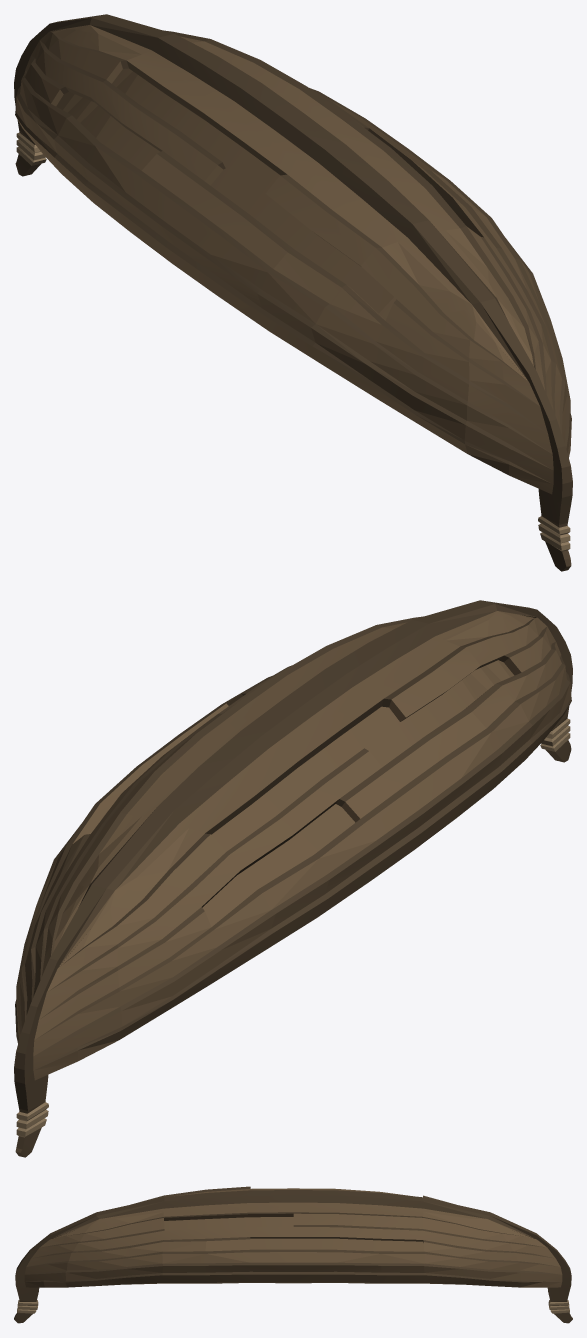
Rendered from Balsa_Volteada.glb.
The picture shows the model from 3 angles, top to bottom: view 1: azimuth 30°, elevation 25°; view 2: azimuth 150°, elevation 25°; view 3: azimuth 270°, elevation 25°; orthographic projection. The views are drawn at different scales.
Visible parts, largest first — view 1: SM_Prop_Boat_Broken_01_1; view 2: SM_Prop_Boat_Broken_01_1; view 3: SM_Prop_Boat_Broken_01_1.
Boxes of the visible parts, x1,y1,x2,y2 form: SM_Prop_Boat_Broken_01_1: (14,14,572,571); SM_Prop_Boat_Broken_01_1: (14,600,572,1157); SM_Prop_Boat_Broken_01_1: (14,1186,572,1323).
Bounding box in the file's own units: 2.46 × 2.32 × 9.02.
1 material, 1 textured.
